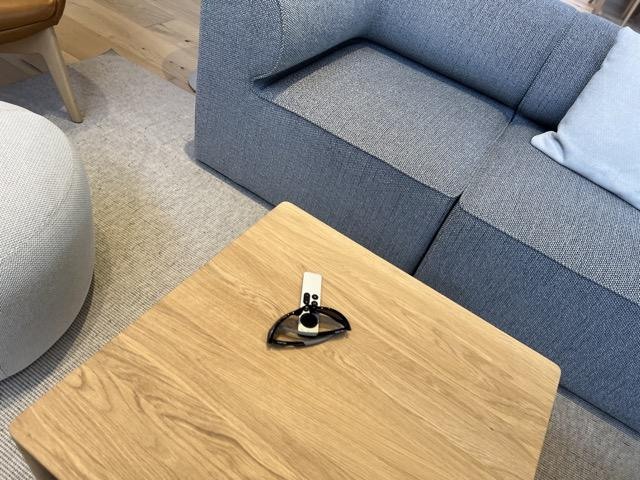Sunglasses: (267, 305, 352, 348)
